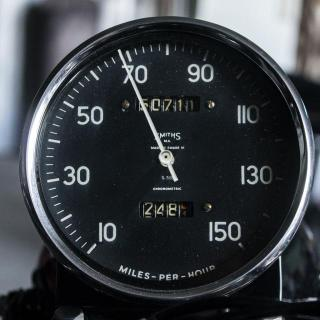gauge: (10, 5, 319, 318), (84, 229, 115, 267), (226, 228, 256, 262), (156, 149, 176, 167), (116, 47, 124, 58)
